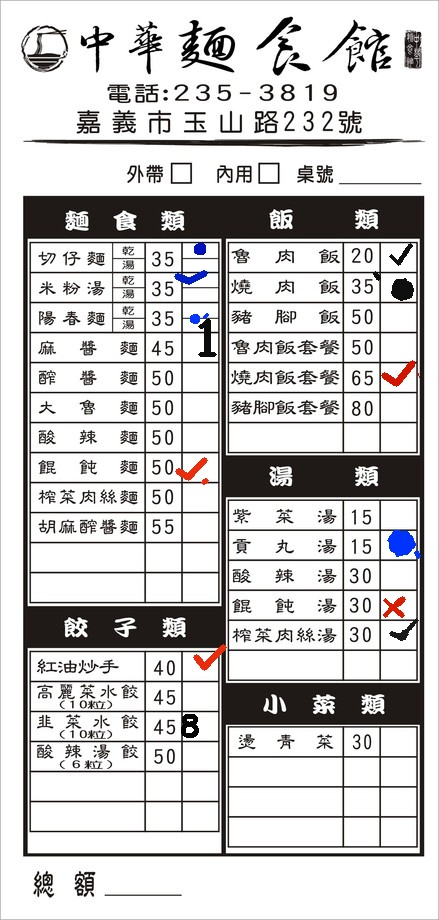marked_circle: (380, 531, 416, 560), (378, 271, 414, 300), (183, 317, 217, 330), (183, 244, 217, 257)
marked_number_1: (182, 332, 218, 361)
marked_number_8: (181, 711, 217, 740)
marked_tick: (182, 651, 218, 680), (380, 619, 416, 648), (381, 242, 417, 271), (381, 360, 417, 389), (179, 453, 215, 482), (183, 273, 217, 286)
marked_x: (380, 589, 416, 618)
